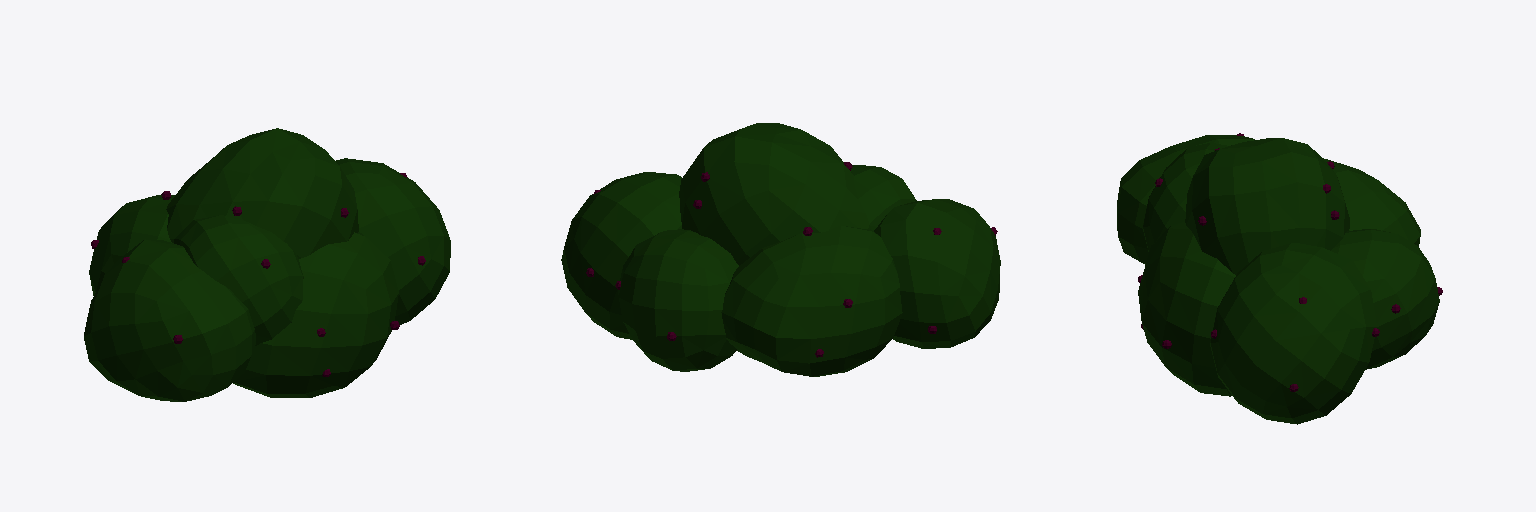
The model's file is kust.obj.
3 renders of one model, left to right at view 1: azimuth 30°, elevation 25°; view 2: azimuth 150°, elevation 25°; view 3: azimuth 270°, elevation 25°, orthographic.
Visible parts, largest first — view 1: Cube.042_Cube.043; view 2: Cube.042_Cube.043; view 3: Cube.042_Cube.043.
Boxes of the visible parts, x1,y1,x2,y2 form: Cube.042_Cube.043: [84, 128, 450, 401]; Cube.042_Cube.043: [561, 123, 1000, 376]; Cube.042_Cube.043: [1117, 133, 1442, 424].
Size of the model in its own units: 6.79 by 3.99 by 5.03.